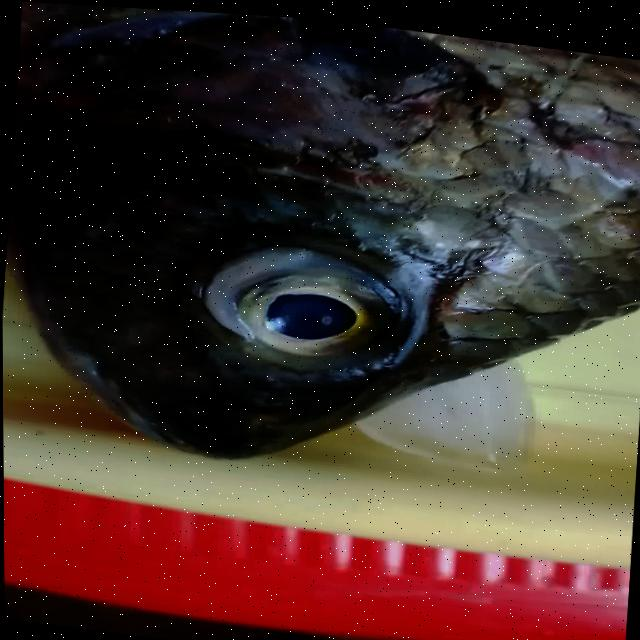Fresh: (156, 209, 446, 389)
